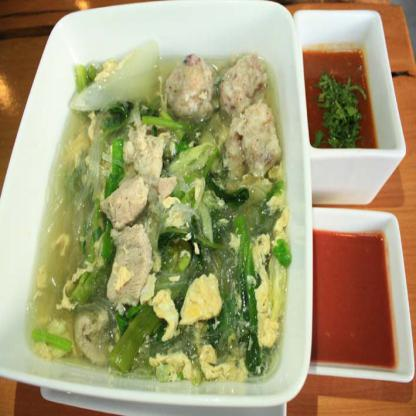Suki: (22, 46, 297, 391)
